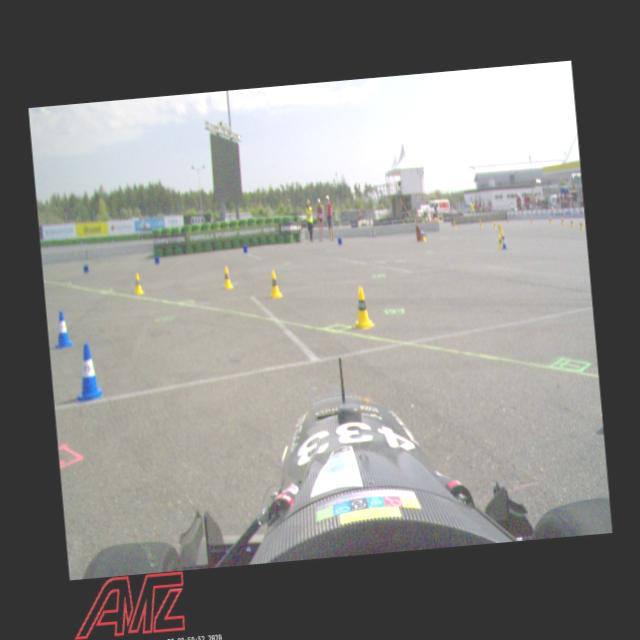blue_cone: (73, 341, 104, 404), (52, 310, 73, 350), (501, 234, 507, 248), (82, 264, 89, 274), (242, 245, 248, 254), (154, 256, 160, 264), (336, 238, 342, 245)
yellow_cone: (350, 284, 374, 331), (268, 268, 281, 298), (221, 264, 233, 288), (132, 272, 144, 294), (496, 235, 504, 249), (492, 221, 497, 229), (570, 216, 574, 226), (579, 220, 583, 230), (548, 215, 552, 224), (560, 216, 564, 224), (479, 218, 482, 228), (453, 220, 456, 229), (506, 217, 509, 223), (530, 215, 532, 222)
